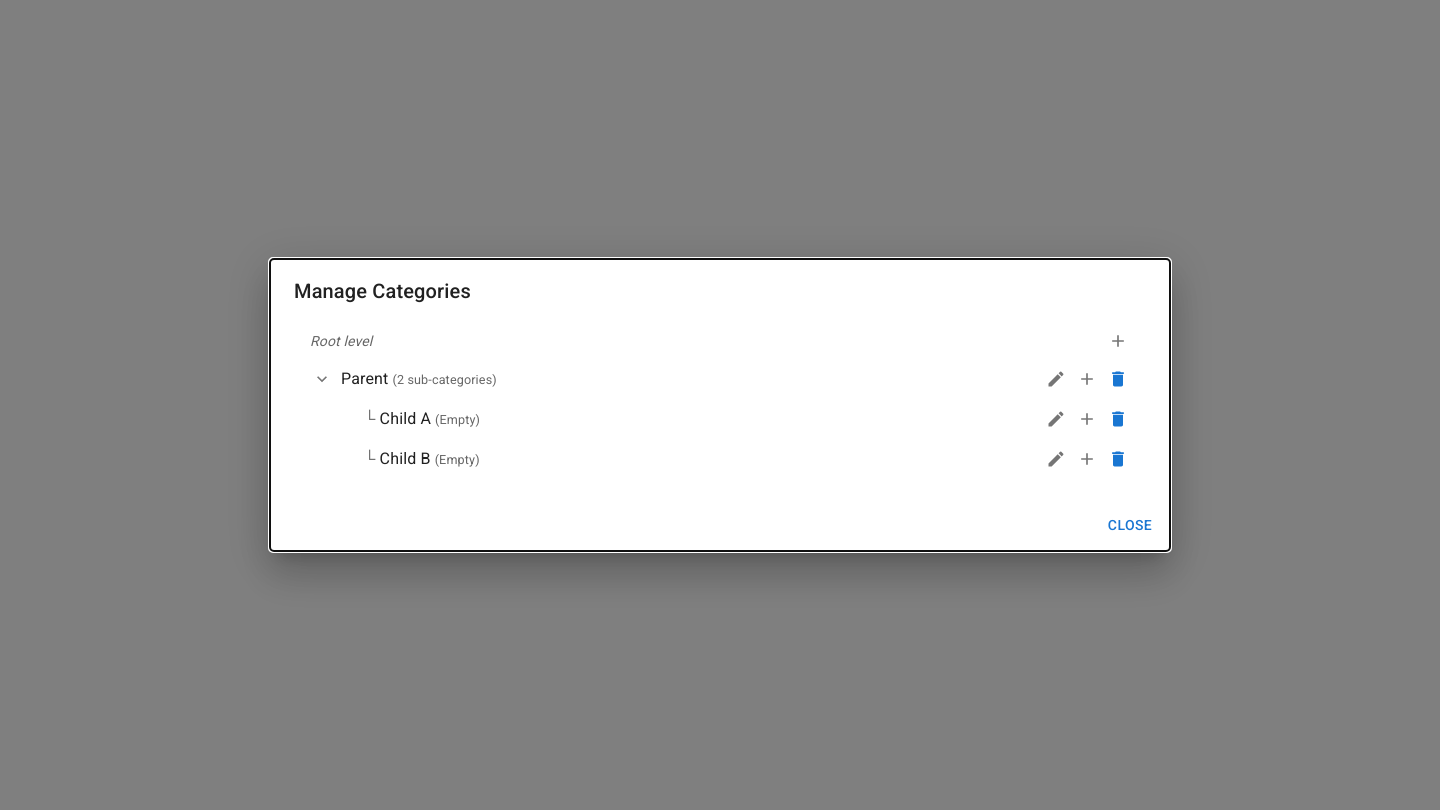
Test: ManageCategoriesDialog — delete category › shows sub-category warning when deleting a parent
Click the button named "Delete category" in the row of "Parent" at x=1118, y=379, box [1103,364,1133,394]
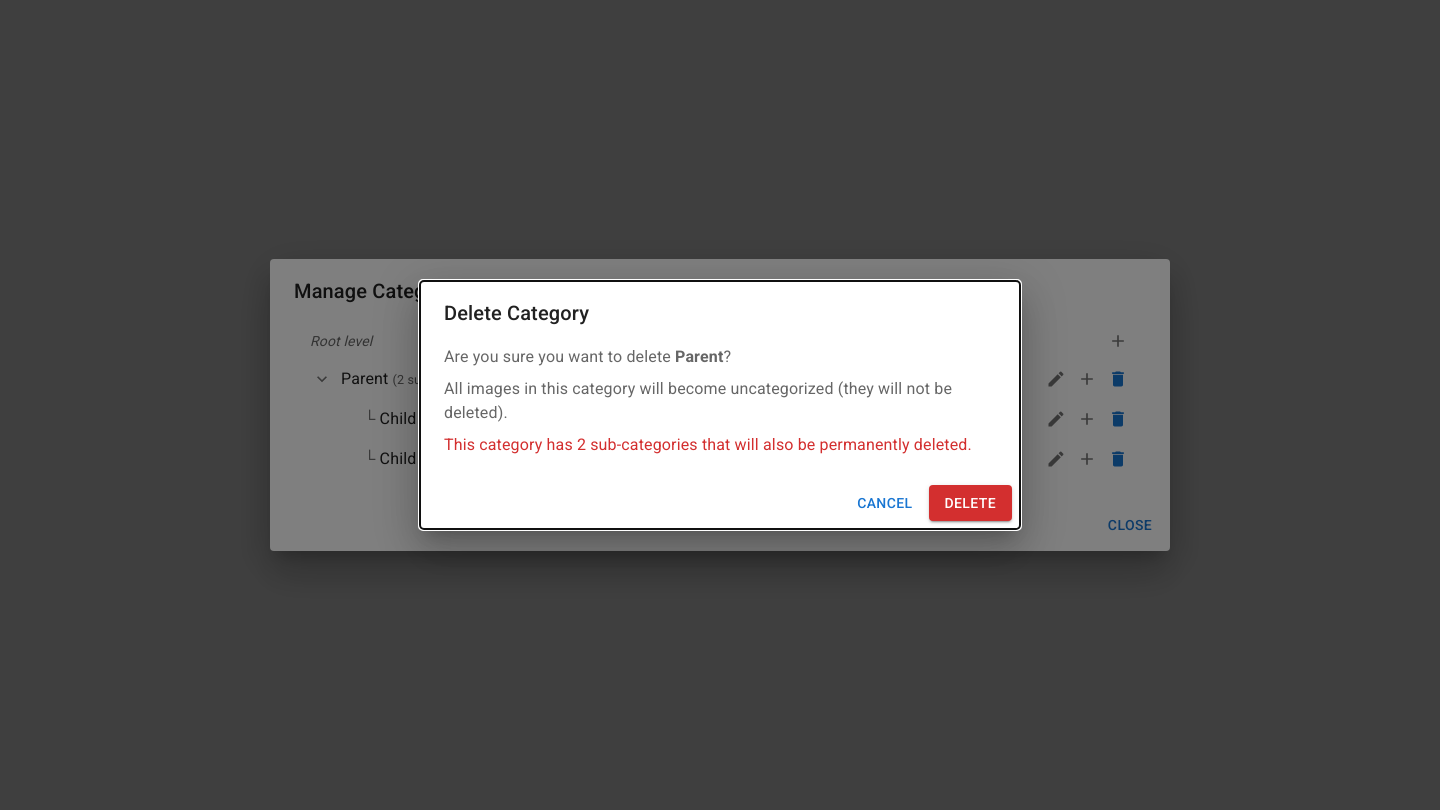
Now the text "sub-categories that will also be permanently deleted" is shown, box [444,433,996,457]
